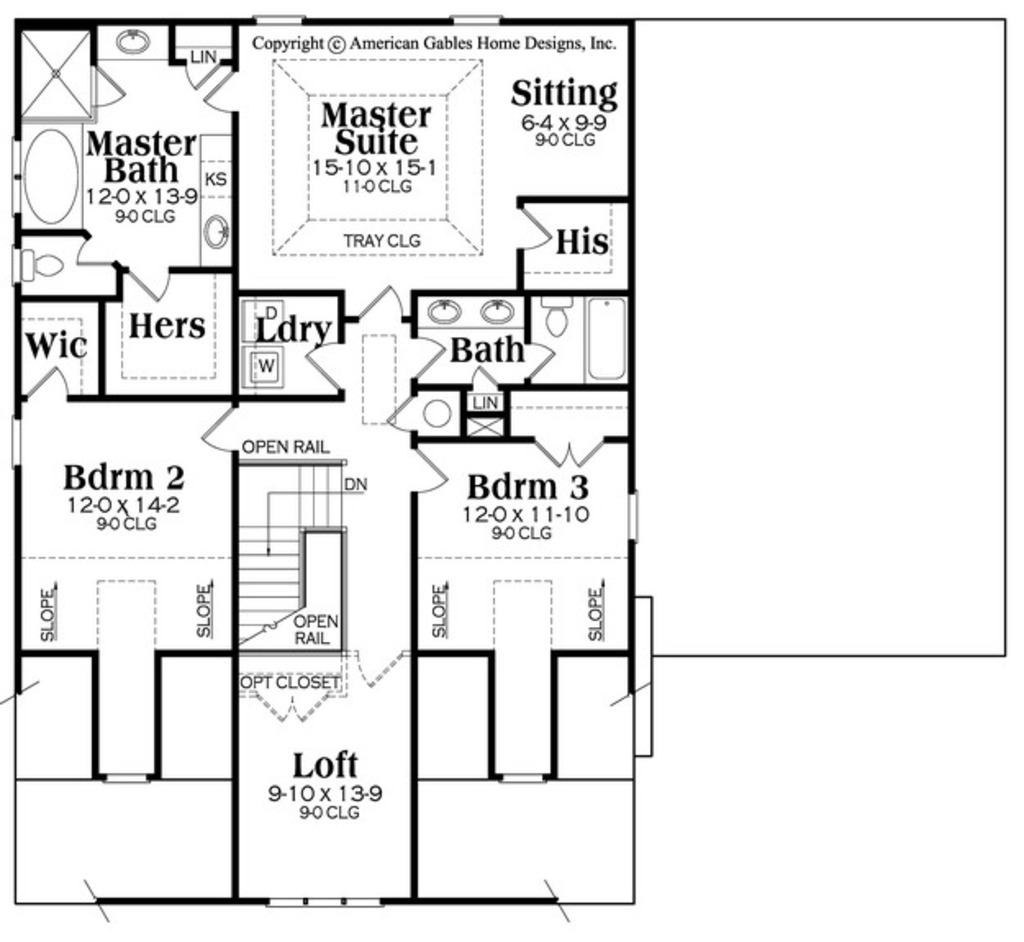door: (240, 685, 334, 728), (192, 398, 247, 457), (540, 432, 614, 474), (340, 647, 405, 692), (121, 256, 175, 303), (403, 442, 453, 492), (343, 287, 414, 322), (82, 66, 132, 115), (23, 357, 74, 403), (201, 67, 242, 116), (308, 342, 350, 389), (516, 205, 558, 251), (404, 327, 436, 380), (387, 395, 423, 441), (523, 340, 561, 383), (72, 238, 104, 276), (181, 51, 213, 89)
large_sink: (8, 245, 62, 283), (542, 283, 572, 338)
small_sink: (429, 287, 521, 328), (198, 199, 239, 270), (92, 28, 172, 58)
stairs: (230, 447, 353, 670)
tub: (24, 124, 91, 231), (585, 296, 623, 389)
window: (261, 890, 401, 919), (7, 412, 36, 473), (439, 11, 507, 37), (494, 763, 558, 787), (620, 489, 645, 547), (98, 769, 159, 790), (249, 12, 314, 31)
